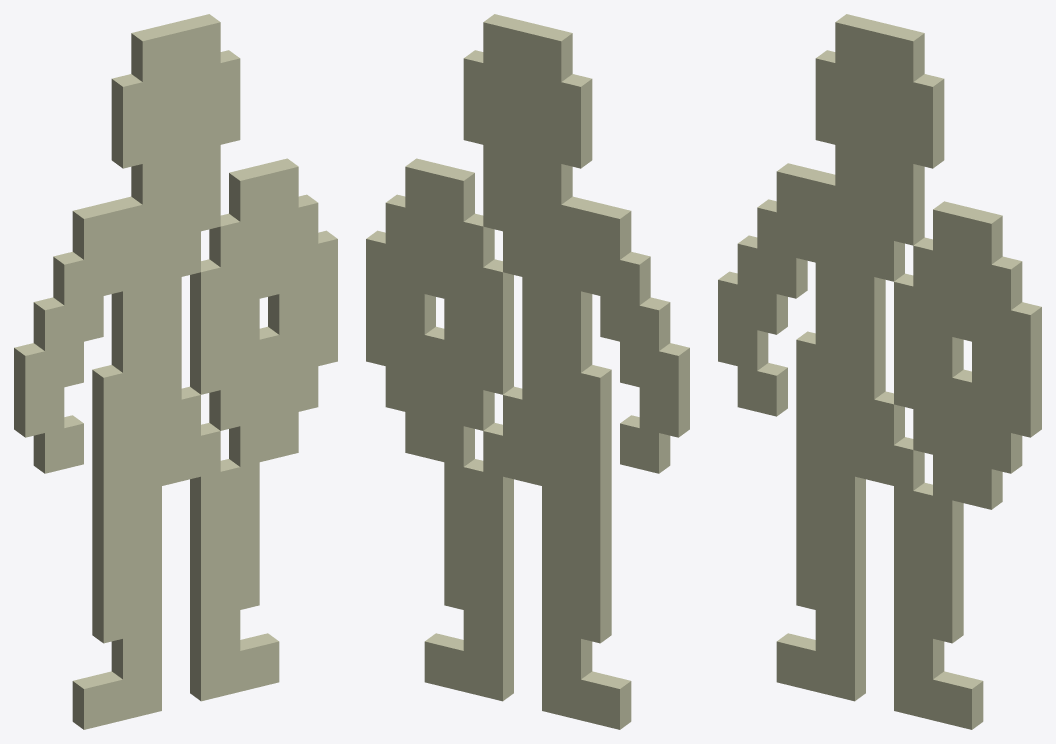
Rendered from Giant-Shield-Tan.vox.obj.
3 views of the same model, side by side, from view 1: azimuth 30°, elevation 25°; view 2: azimuth 150°, elevation 25°; view 3: azimuth 330°, elevation 25° (orthographic).
Bounding box in the file's own units: 1.6 × 3.3 × 0.1.
1 material, 1 textured.
